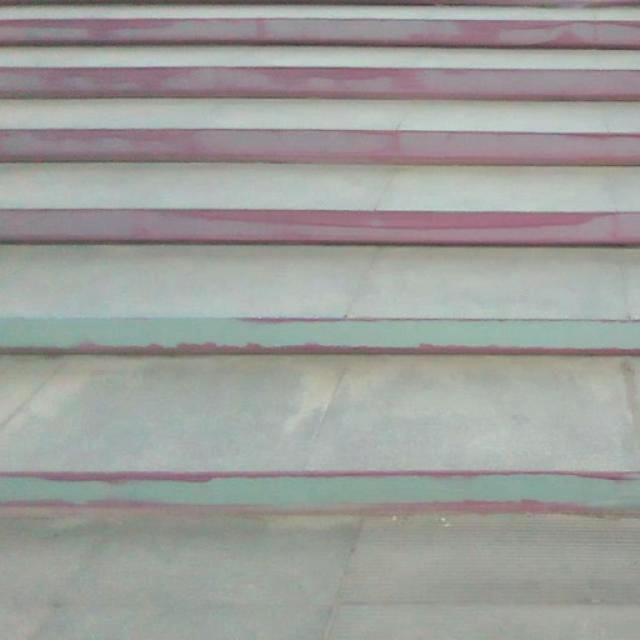stair: (1, 0, 640, 530)
